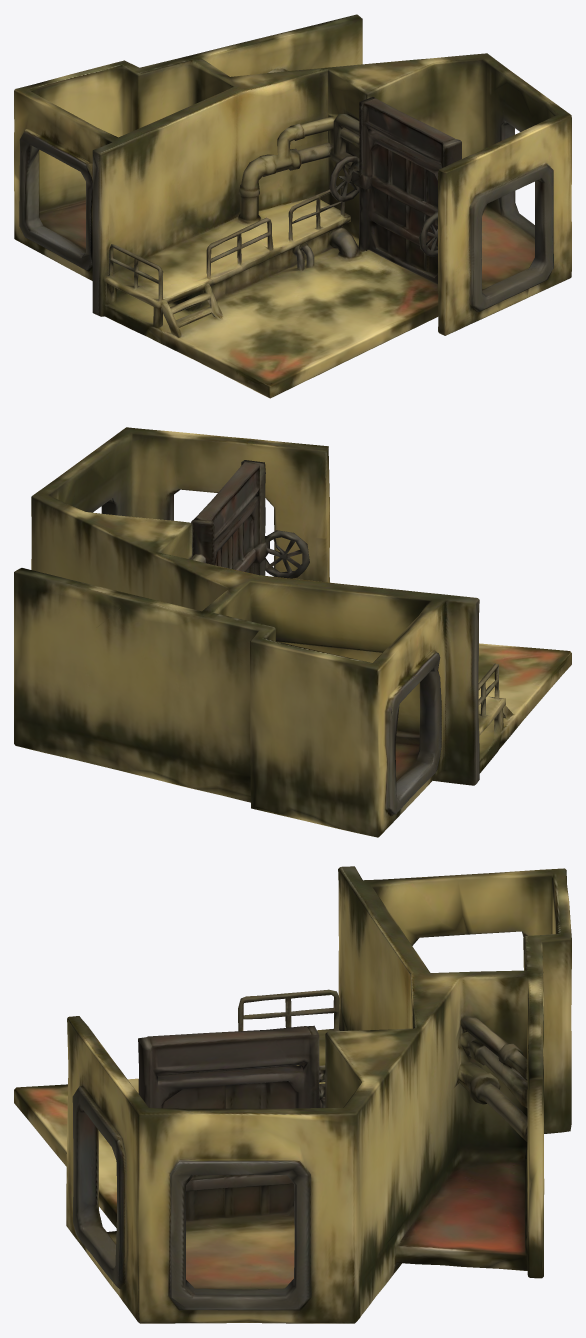
Rendered from tripo_convert_8c0f5603-c51e-4550-ac93-94844aaf0c0f.glb.
3 renders of one model, top to bottom at view 1: azimuth 30°, elevation 25°; view 2: azimuth 150°, elevation 25°; view 3: azimuth 270°, elevation 25°, orthographic. The views are drawn at different scales.
Parts seen in each view (by area): view 1: tripo_node_8c0f5603-c51e-4550-ac93-94844aaf0c0f; view 2: tripo_node_8c0f5603-c51e-4550-ac93-94844aaf0c0f; view 3: tripo_node_8c0f5603-c51e-4550-ac93-94844aaf0c0f.
Boxes of the visible parts, box(x1,y1,x2,y2) form: tripo_node_8c0f5603-c51e-4550-ac93-94844aaf0c0f: box(14, 14, 571, 398); tripo_node_8c0f5603-c51e-4550-ac93-94844aaf0c0f: box(14, 427, 571, 837); tripo_node_8c0f5603-c51e-4550-ac93-94844aaf0c0f: box(14, 866, 571, 1323).
Bounding box in the file's own units: 1 × 0.3907 × 0.9366.
Materials: 1 (1 with a texture image).
